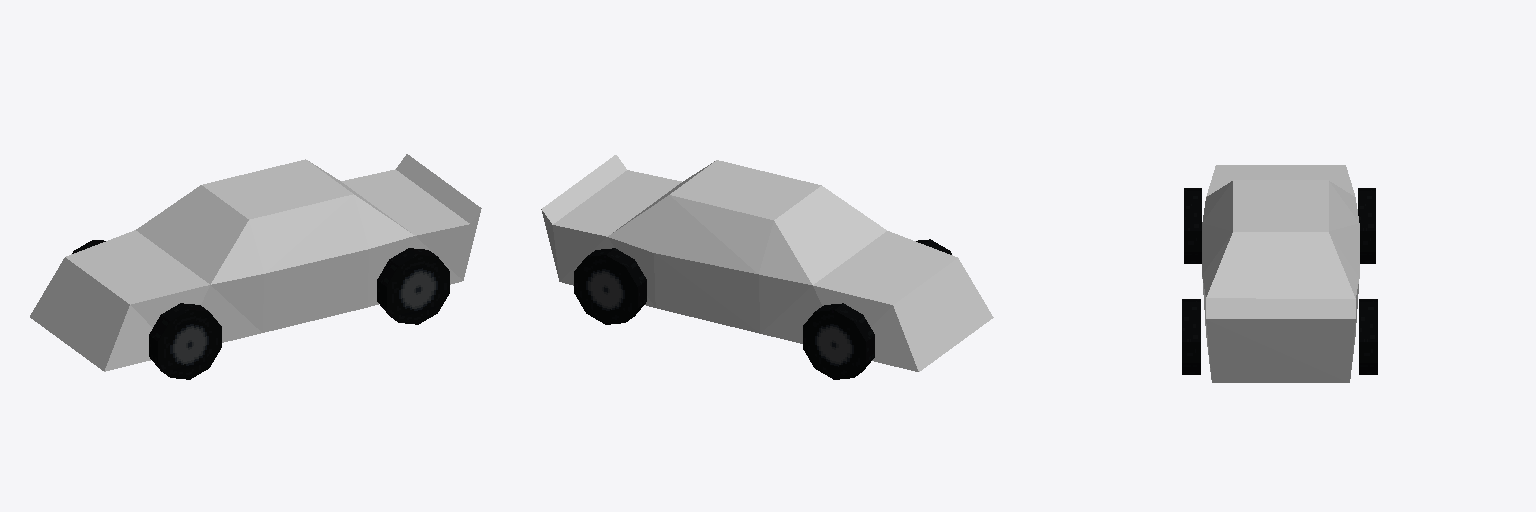
The picture shows the model from 3 angles: view 1: azimuth 30°, elevation 25°; view 2: azimuth 150°, elevation 25°; view 3: azimuth 270°, elevation 25°; orthographic projection.
Parts seen in each view (by area): view 1: Car_Mesh, RearWheelsLeft_Mesh, FrontWheelsLeft_Mesh; view 2: Car_Mesh, RearWheelsRight_Mesh, FrontWheelsRight_Mesh; view 3: Car_Mesh, RearWheelsRight_Mesh, RearWheelsLeft_Mesh, FrontWheelsLeft_Mesh, FrontWheelsRight_Mesh.
Part boxes in pixels (bbox=[...]): Car_Mesh: bbox=[30, 154, 481, 371]; RearWheelsLeft_Mesh: bbox=[377, 248, 449, 324]; FrontWheelsLeft_Mesh: bbox=[149, 303, 221, 379]; Car_Mesh: bbox=[541, 155, 993, 371]; RearWheelsRight_Mesh: bbox=[574, 248, 646, 324]; FrontWheelsRight_Mesh: bbox=[803, 303, 874, 379]; Car_Mesh: bbox=[1202, 165, 1359, 382]; RearWheelsRight_Mesh: bbox=[1359, 299, 1377, 374]; RearWheelsLeft_Mesh: bbox=[1182, 299, 1200, 374]; FrontWheelsLeft_Mesh: bbox=[1184, 188, 1201, 263]; FrontWheelsRight_Mesh: bbox=[1358, 188, 1375, 263].
Bounding box in the file's own units: 7.64 × 2.35 × 3.43.
2 materials, 1 textured.